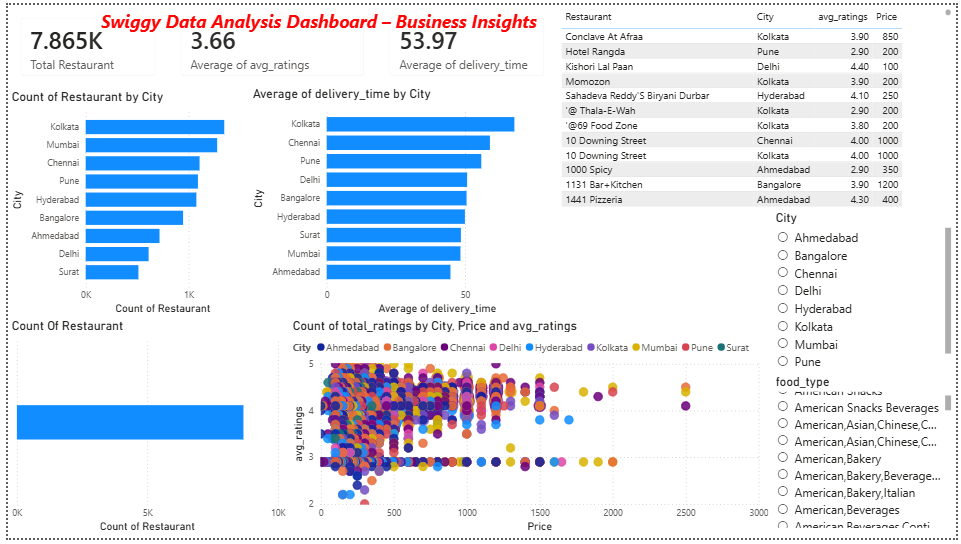

What the dashboard file says about the page in this screenshot:
{"tool":"powerbi","page":{"name":"Page 1","canvas":[1280,720],"ordinal":0},"visuals":[{"type":"cardVisual","fields":{"Data":["Count(swiggy.Restaurant)"]},"box":[0,0,216.2,113.5],"z":0},{"type":"cardVisual","fields":{"Data":["Avg(swiggy.avg_ratings)"]},"box":[216.2,0,282.4,113.5],"z":1000},{"type":"cardVisual","fields":{"Data":["Avg(swiggy.delivery_time)"]},"box":[498.6,0,243.2,113.5],"z":2000},{"type":"clusteredBarChart","fields":{"Category":["swiggy.City"],"Y":["CountNonNull(swiggy.Restaurant)"]},"box":[0,113.5,325.7,309.5],"z":3000},{"type":"barChart","title":"Count Of Restaurant ","fields":{"Y":["CountNonNull(swiggy.Restaurant)"]},"box":[0,423,379.7,294.6],"z":4000},{"type":"scatterChart","fields":{"X":["swiggy.Price"],"Y":["swiggy.avg_ratings"],"Size":["Count(swiggy.total_ratings)"],"Series":["swiggy.City"]},"box":[379.7,423,652.7,294.6],"z":5000},{"type":"barChart","fields":{"Category":["swiggy.City"],"Y":["Avg(swiggy.delivery_time)"]},"box":[325.7,109.5,416.2,313.5],"z":6000},{"type":"tableEx","fields":{"Values":["swiggy.Restaurant","swiggy.City","swiggy.avg_ratings","swiggy.Price"]},"box":[741.9,0,537.8,277],"z":7000},{"type":"listSlicer","fields":{"Values":["swiggy.food_type"]},"box":[1032.4,498.6,247.3,218.9],"z":8000},{"type":"listSlicer","fields":{"Values":["swiggy.City"]},"box":[1032.4,277,247.3,221.6],"z":9000},{"type":"textbox","box":[108.1,0,616.2,56.8],"z":9001}]}

Visuals, with their boxes in screenshot pixels (x1, y1, x2, y2), scaled from the page's 1280x720 canvas onto the 961x544 screenshot:
cardVisual - Count(swiggy.Restaurant): Rect(0, 0, 162, 86)
cardVisual - Avg(swiggy.avg_ratings): Rect(162, 0, 374, 86)
cardVisual - Avg(swiggy.delivery_time): Rect(374, 0, 557, 86)
clusteredBarChart - swiggy.City x CountNonNull(swiggy.Restaurant): Rect(0, 86, 245, 320)
"Count Of Restaurant " barChart: Rect(0, 320, 285, 542)
scatterChart - swiggy.Price x swiggy.avg_ratings: Rect(285, 320, 775, 542)
barChart - swiggy.City x Avg(swiggy.delivery_time): Rect(245, 83, 557, 320)
tableEx - swiggy.Restaurant x swiggy.City: Rect(557, 0, 960, 209)
listSlicer - swiggy.food_type: Rect(775, 377, 960, 542)
listSlicer - swiggy.City: Rect(775, 209, 960, 377)
textbox: Rect(81, 0, 544, 43)
